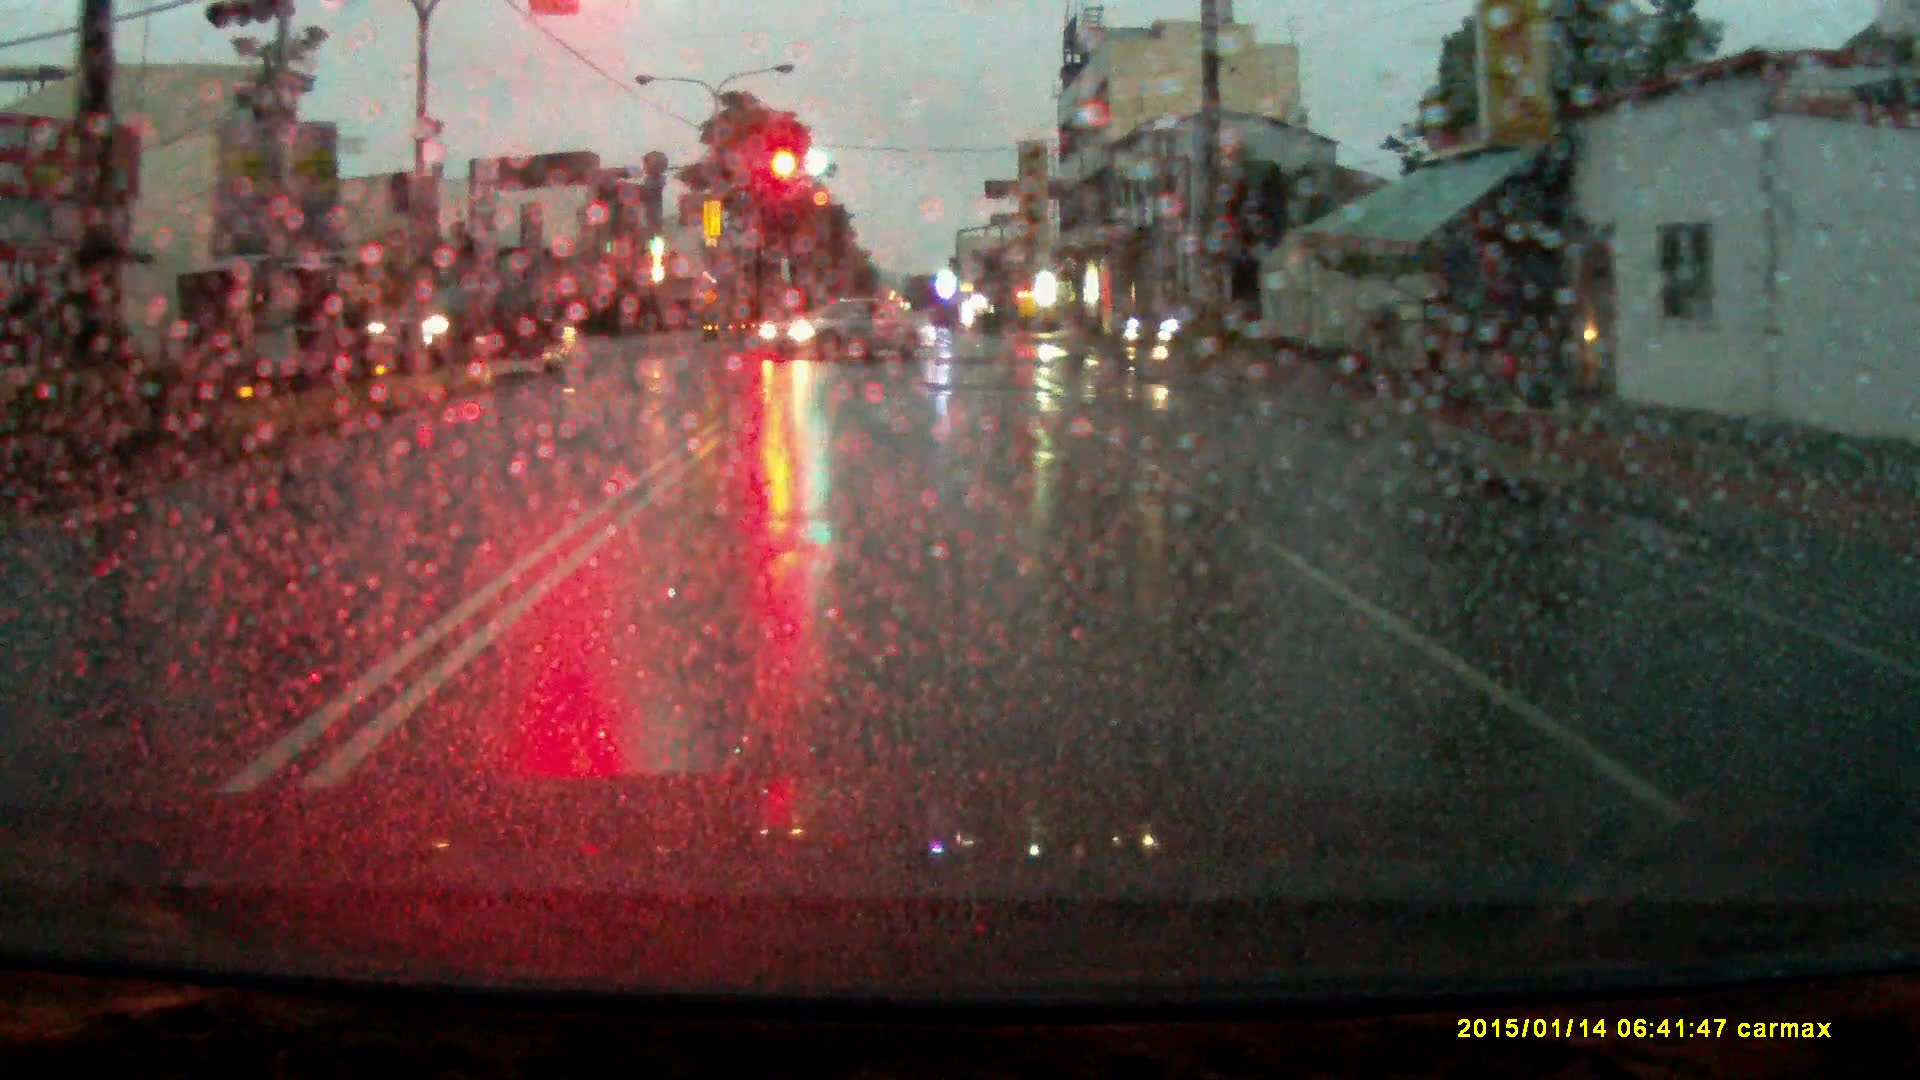vehicle: (353, 274, 580, 380), (756, 298, 936, 367), (1120, 301, 1262, 349)
